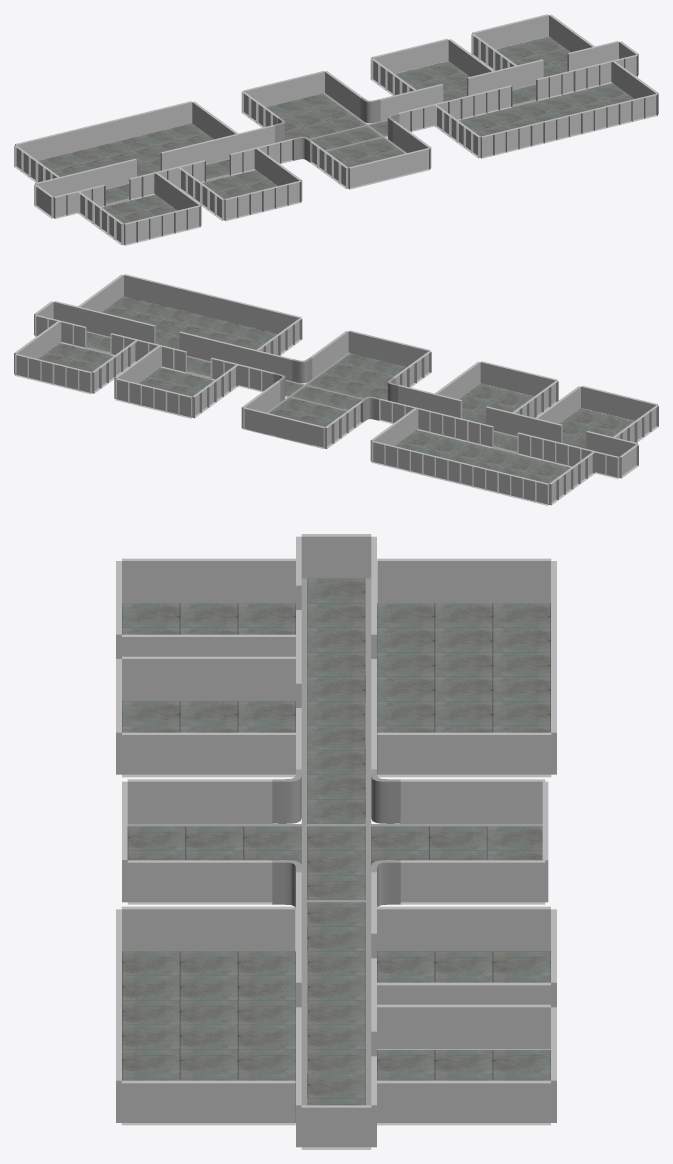
File: greybox.fbx
3 renders of one model, top to bottom at view 1: azimuth 30°, elevation 25°; view 2: azimuth 150°, elevation 25°; view 3: azimuth 270°, elevation 25°, orthographic. The views are drawn at different scales.
Visible parts, largest first — view 1: pCube150, pCube151, polySurface53, polySurface98, pCube149, pPlane103, pPlane35, pPlane188, pPlane34, pPlane47, Wall15, pPlane150 (+23 smaller); view 2: pCube151, pCube150, polySurface52, pCube149, polySurface99, pPlane36, pPlane48, pPlane40, pPlane119, pPlane114, pPlane100, Wall25 (+23 smaller); view 3: pCube149, pCube148, pPlane18, pPlane23, pPlane130, pPlane131, pPlane133, pPlane168, pPlane172, pPlane122, Wall12, pPlane115 (+143 smaller).
Part boxes in pixels (x1,y1,x2,y2): pCube150: [348, 148, 430, 189]; pCube151: [243, 71, 324, 107]; polySurface53: [360, 97, 380, 123]; polySurface98: [292, 136, 312, 162]; pCube149: [34, 184, 53, 218]; pPlane103: [524, 36, 562, 52]; pPlane35: [301, 120, 339, 137]; pPlane188: [462, 113, 501, 130]; pPlane34: [286, 110, 325, 126]; pPlane47: [358, 137, 396, 154]; Wall15: [167, 123, 206, 139]; pPlane150: [588, 83, 626, 99]; pCube151: [243, 407, 324, 448]; pCube150: [348, 330, 430, 366]; polySurface52: [292, 357, 312, 383]; pCube149: [619, 444, 638, 478]; polySurface99: [360, 396, 379, 422]; pPlane36: [276, 397, 314, 414]; pPlane48: [333, 380, 371, 397]; pPlane40: [347, 370, 386, 386]; pPlane119: [427, 436, 466, 452]; pPlane114: [135, 302, 173, 318]; pPlane100: [171, 373, 210, 390]; Wall25: [567, 408, 605, 424]; pCube149: [301, 534, 371, 578]; pCube148: [301, 1105, 371, 1149]; pPlane18: [307, 850, 365, 875]; pPlane23: [307, 926, 365, 951]; pPlane130: [307, 676, 365, 701]; pPlane131: [307, 774, 365, 799]; pPlane133: [307, 725, 365, 750]; pPlane168: [307, 578, 365, 603]; pPlane172: [307, 627, 365, 652]; pPlane122: [377, 627, 434, 652]; Wall12: [435, 676, 492, 701]; pPlane115: [435, 627, 492, 652].
Bounding box in the file's own units: 11699 × 402 × 3800.
